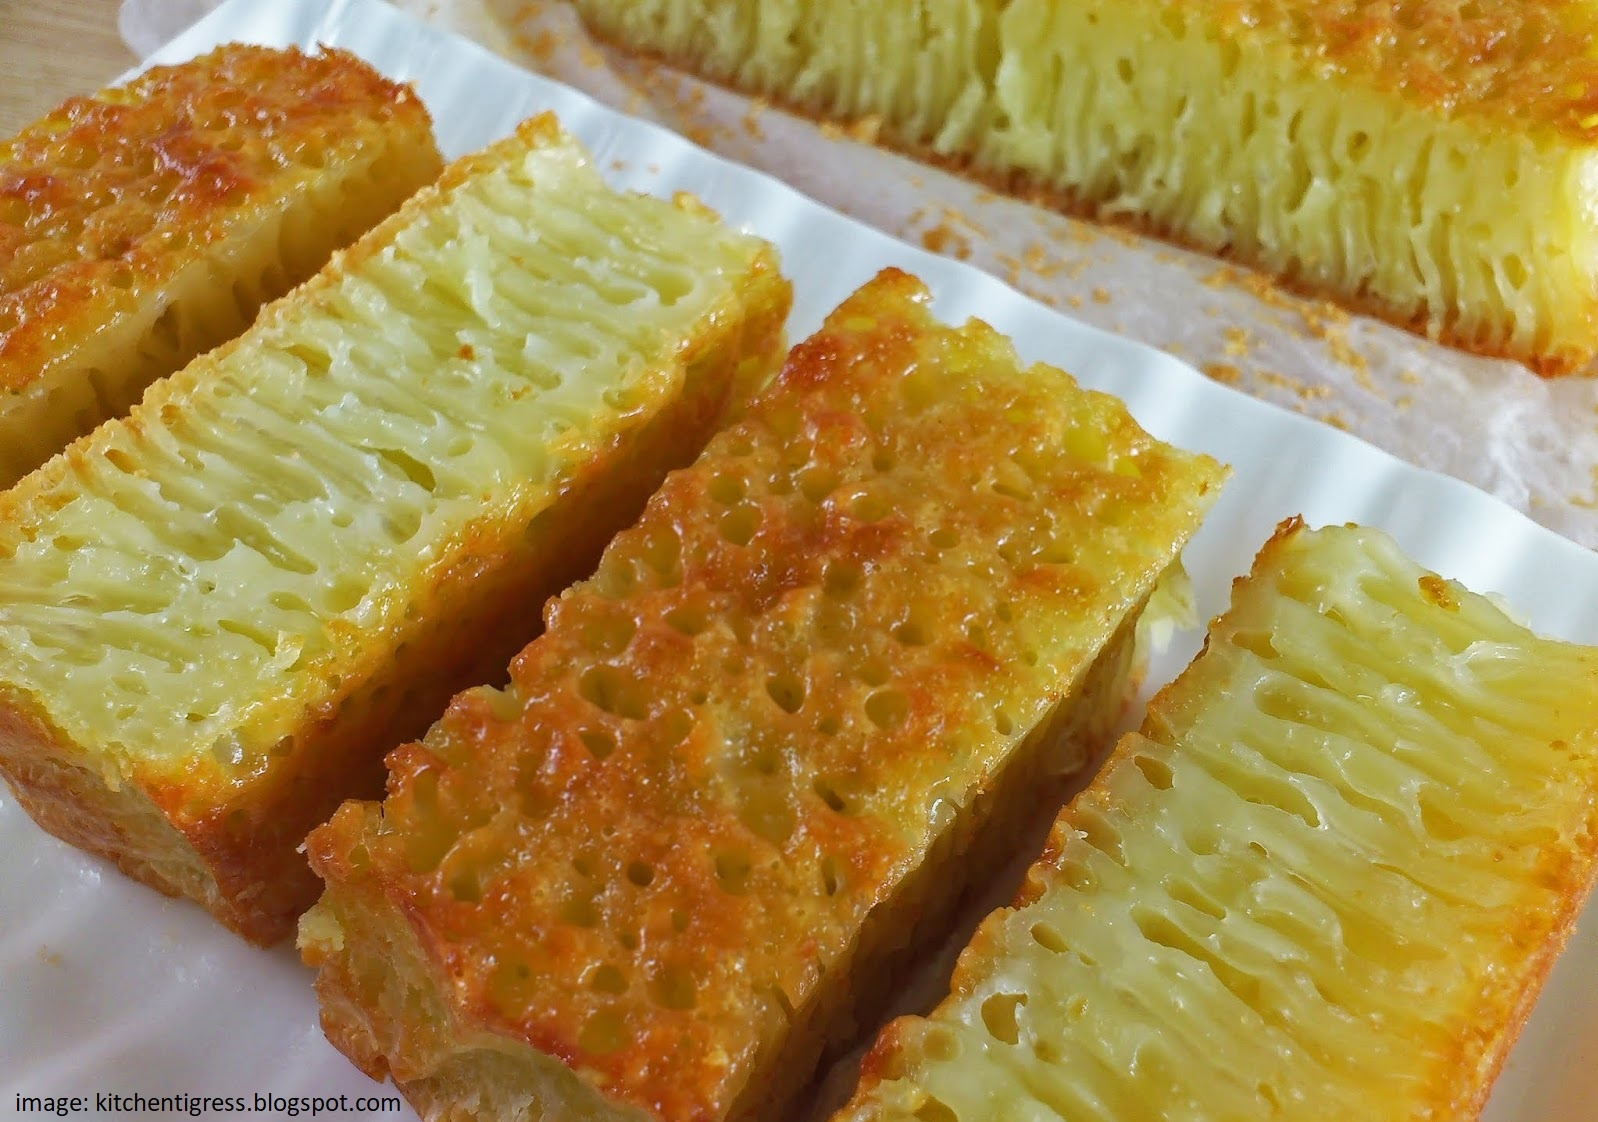bika_ambon: (283, 219, 1517, 1111)
